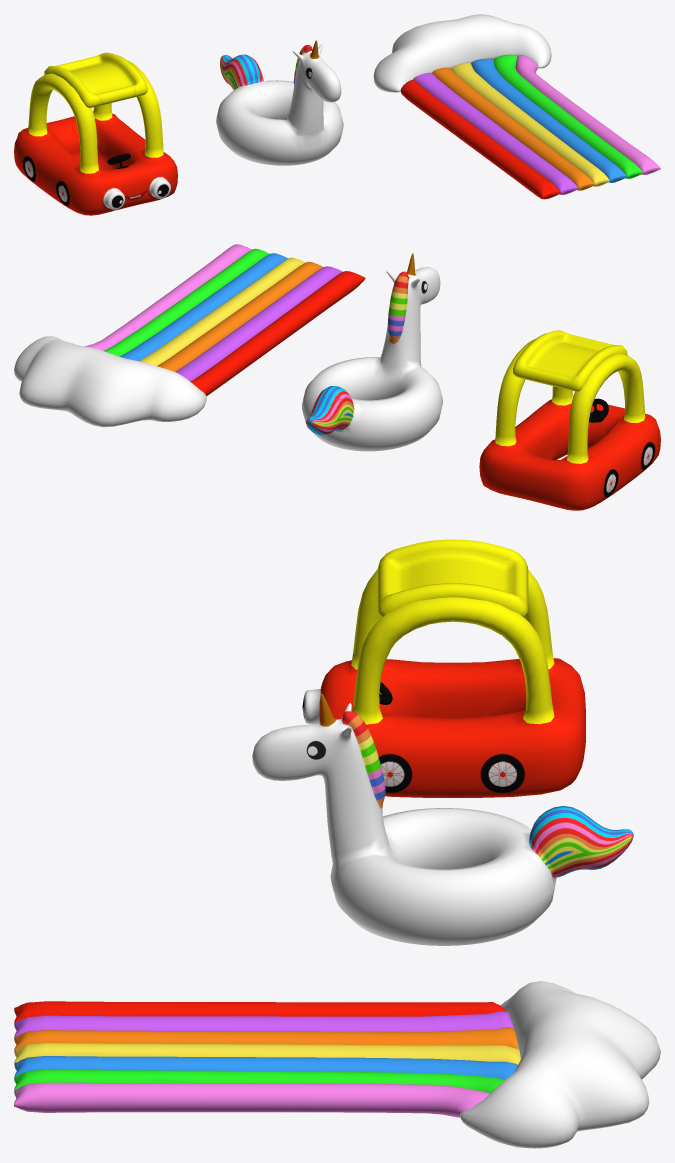
File: PoolFloatPack.obj
3 renders of one model, top to bottom at view 1: azimuth 30°, elevation 25°; view 2: azimuth 150°, elevation 25°; view 3: azimuth 270°, elevation 25°, orthographic. The views are drawn at different scales.
Parts seen in each view (by area): view 1: Cube, Torus, Torus.004_Torus.009; view 2: Cube, Torus, Torus.004_Torus.009; view 3: Cube, Torus, Torus.004_Torus.009.
Part boxes in pixels (bbox=[...]): Cube: bbox=[373, 14, 660, 199]; Torus: bbox=[14, 52, 177, 215]; Torus.004_Torus.009: bbox=[216, 40, 343, 165]; Cube: bbox=[14, 244, 365, 427]; Torus: bbox=[479, 330, 660, 510]; Torus.004_Torus.009: bbox=[302, 253, 442, 451]; Cube: bbox=[14, 981, 660, 1148]; Torus: bbox=[302, 539, 585, 797]; Torus.004_Torus.009: bbox=[252, 693, 633, 945].
Bounding box in the file's own units: 13.95 × 3.36 × 8.89.
3 materials, 3 textured.
